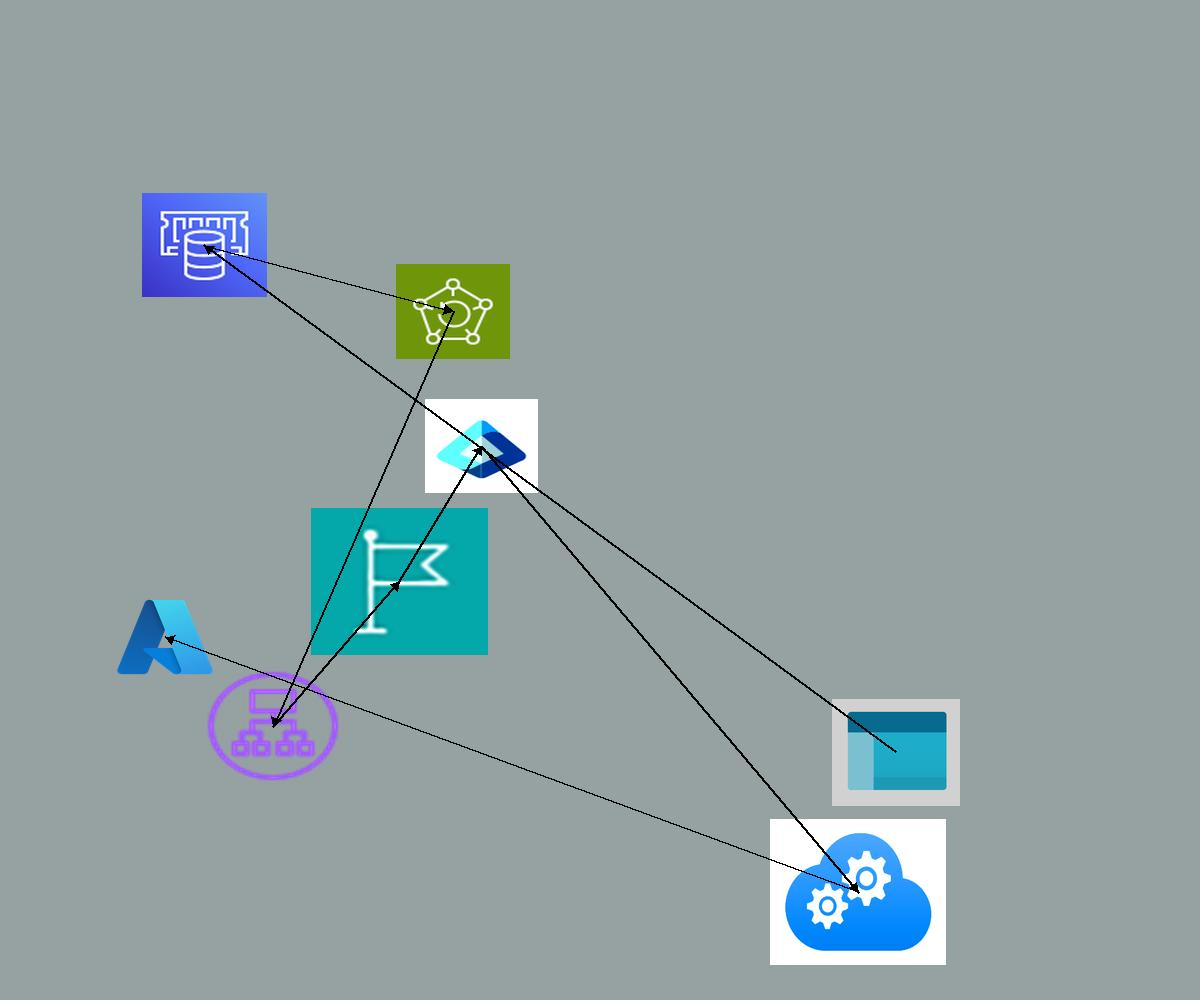AWS-Backup: (396, 264, 510, 359)
AWS-ElastiCache: (142, 193, 267, 297)
AWS-Region: (311, 508, 488, 655)
AWS-Res_Elastic-Load-Balancing_Application-Load-Balancer: (202, 667, 344, 785)
Azure_cloud_services: (770, 819, 946, 965)
Azure_management-portal: (832, 699, 960, 806)
Azure_microsoft_entra: (425, 399, 538, 493)
Azure_services: (113, 594, 217, 680)
